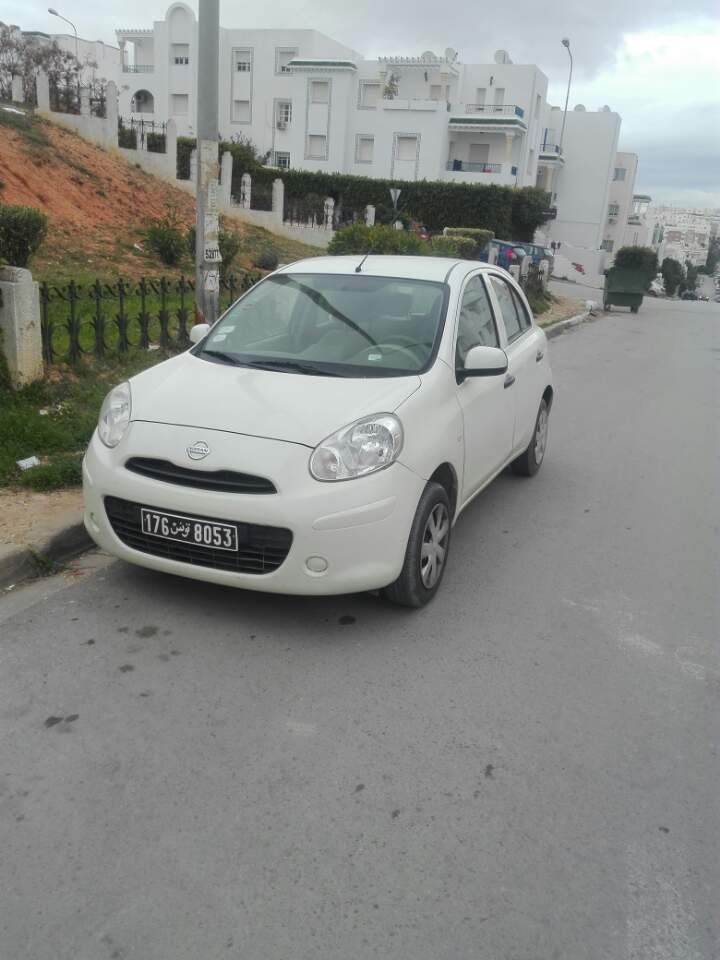LP: (138, 506, 238, 552)
